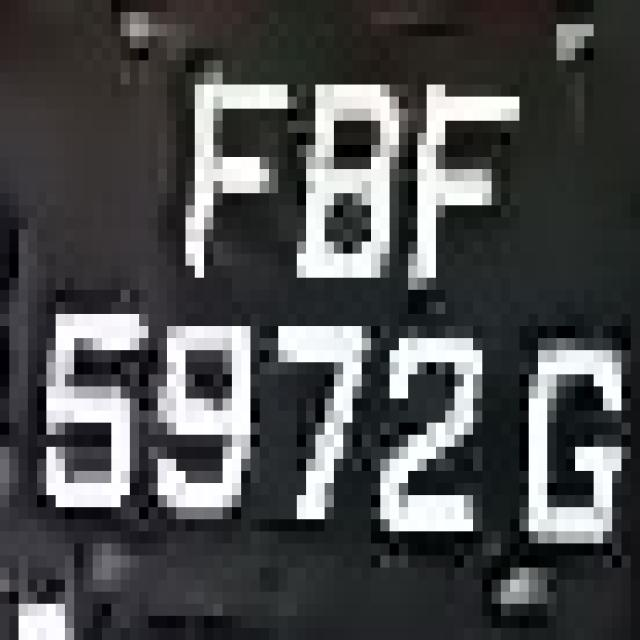2: (362, 302, 510, 567)
5: (46, 242, 140, 568)
7: (250, 290, 362, 531)
9: (158, 302, 269, 555)
B: (278, 72, 408, 290)
F: (399, 36, 529, 314), (176, 48, 297, 290)
G: (510, 302, 631, 580)
